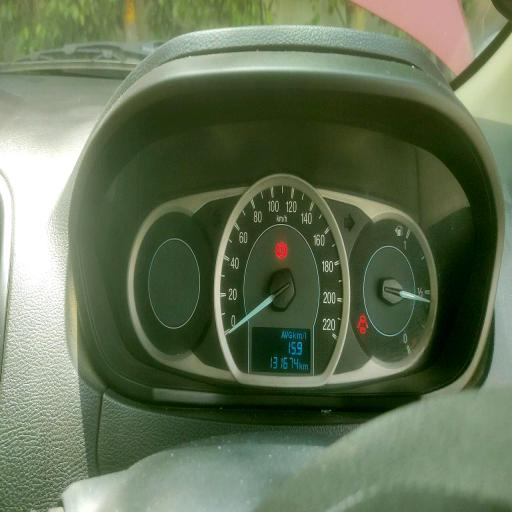brake_system_fault: (275, 241, 288, 259)
